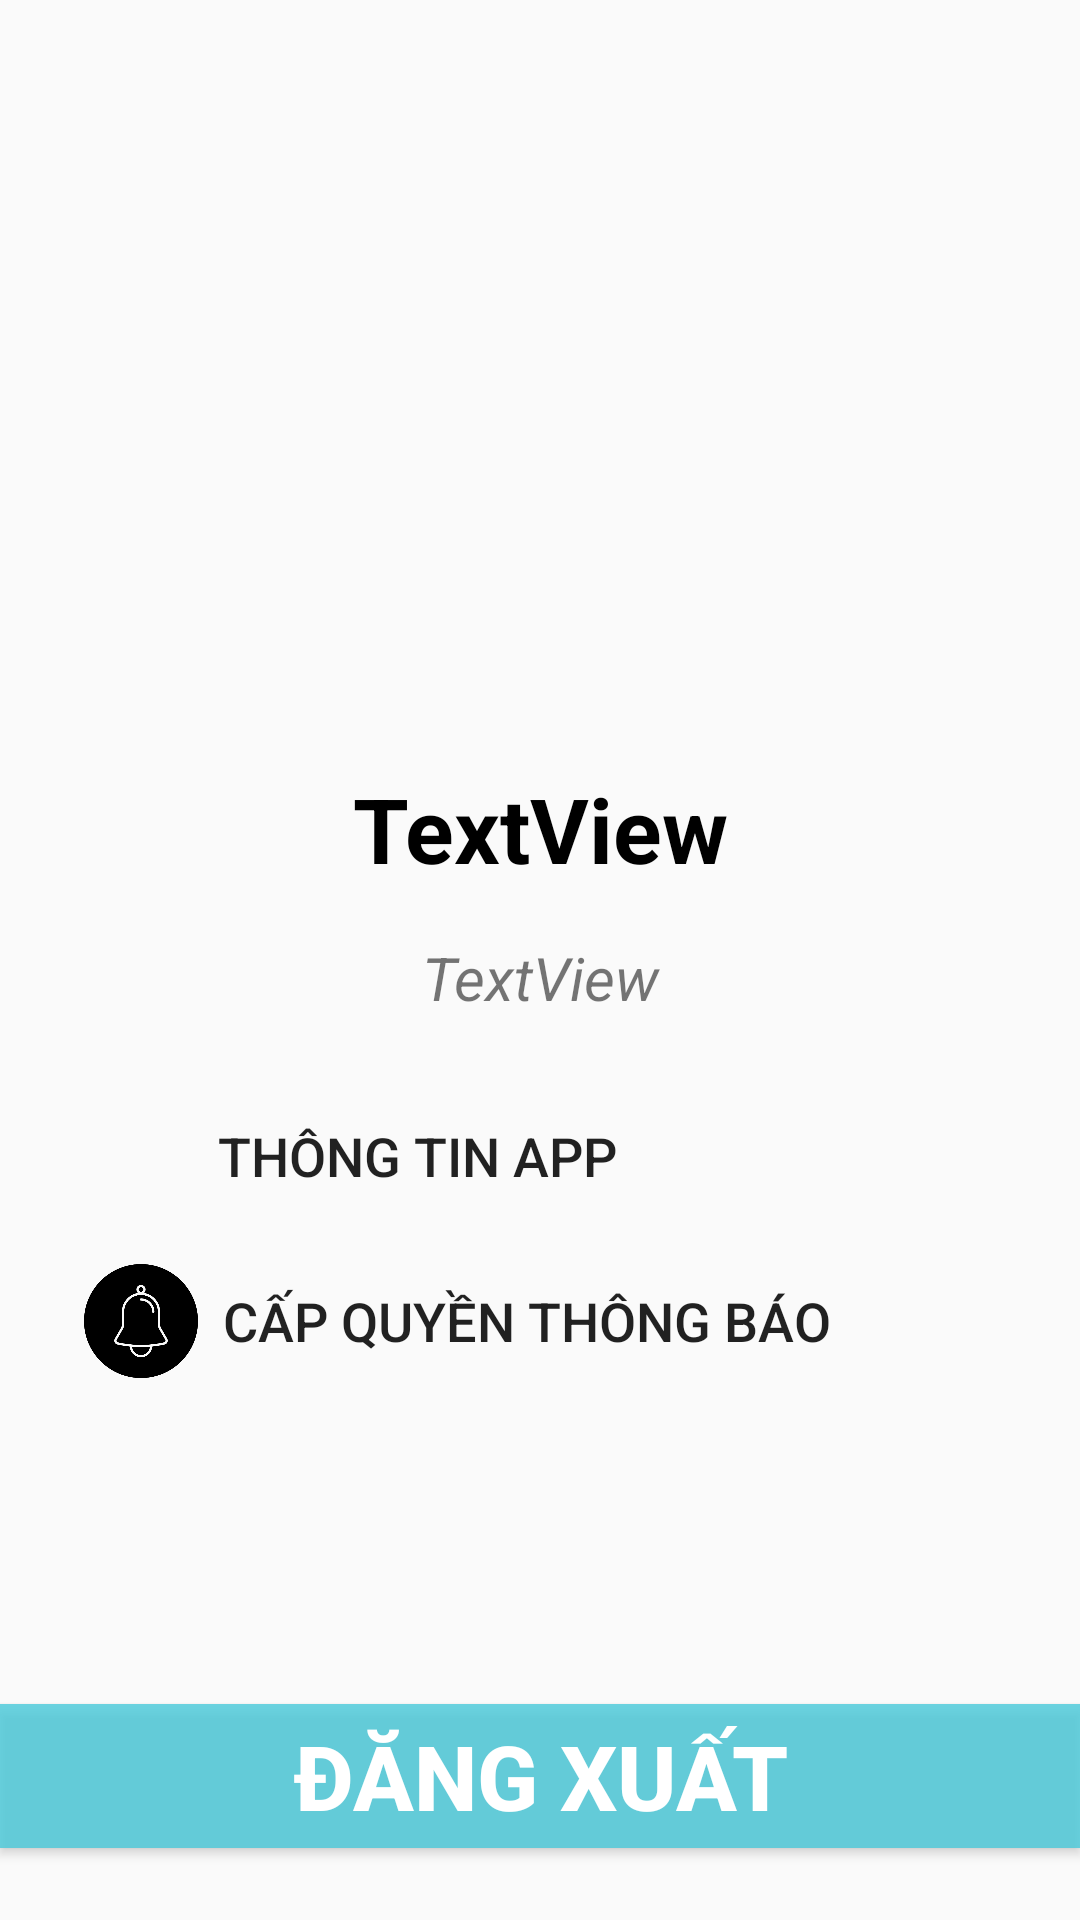

Where to tap for icons on this 1080*1920 app screen, as point (x, y):
thongbao: point (141, 1321)
